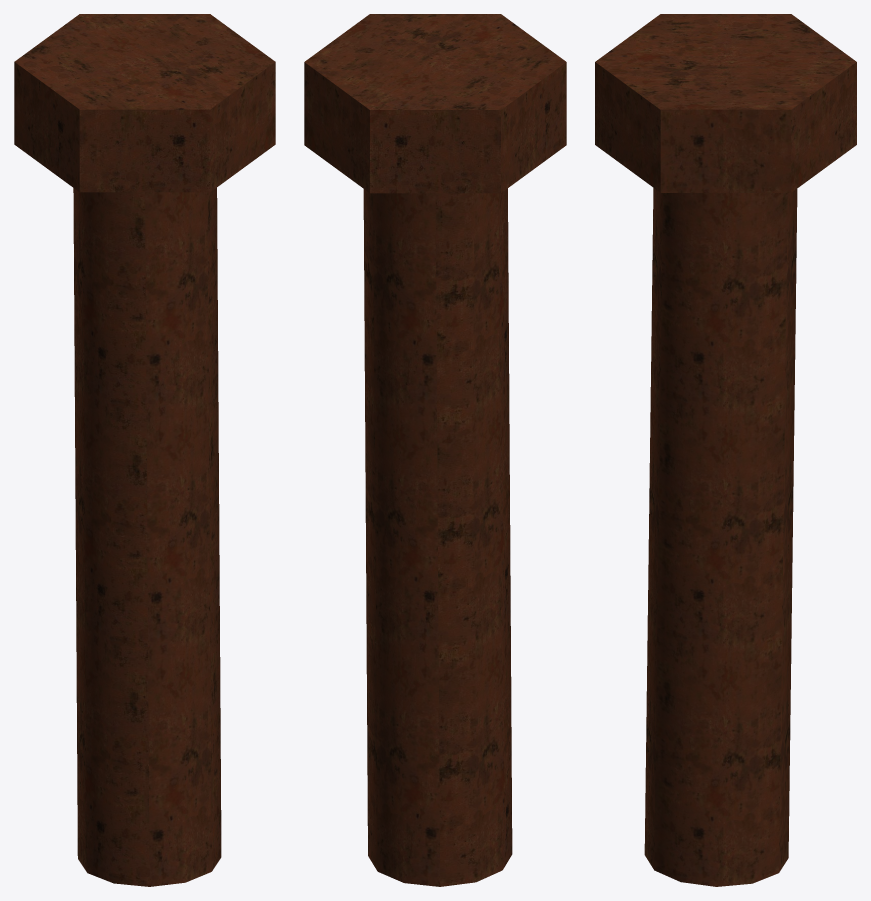
The model's file is bolt_1.glb.
3 views of the same model, side by side, from view 1: azimuth 30°, elevation 25°; view 2: azimuth 150°, elevation 25°; view 3: azimuth 270°, elevation 25° (orthographic).
Visible parts, largest first — view 1: bolt_1; view 2: bolt_1; view 3: bolt_1.
Part boxes in pixels (<box>): bolt_1: <box>14,14,275,886</box>; bolt_1: <box>304,14,566,886</box>; bolt_1: <box>595,14,856,886</box>.
Bounding box in the file's own units: 0.0173 × 0.0671 × 0.02.
1 material, 1 textured.
